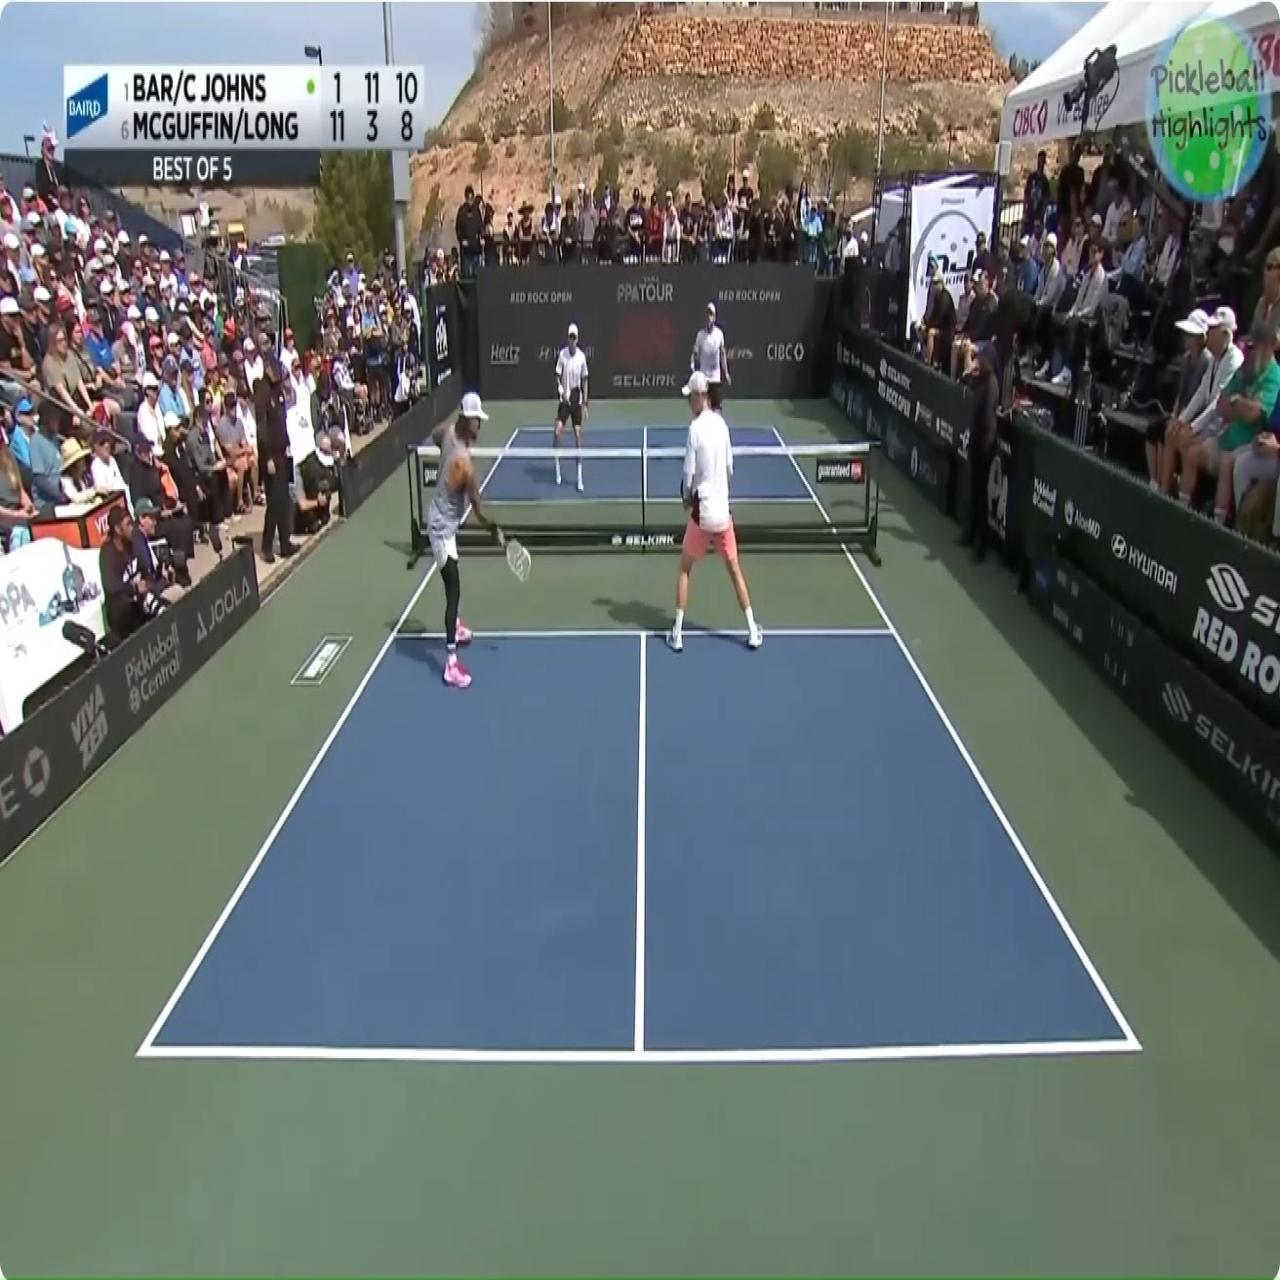pickleball: (558, 383, 564, 395)
